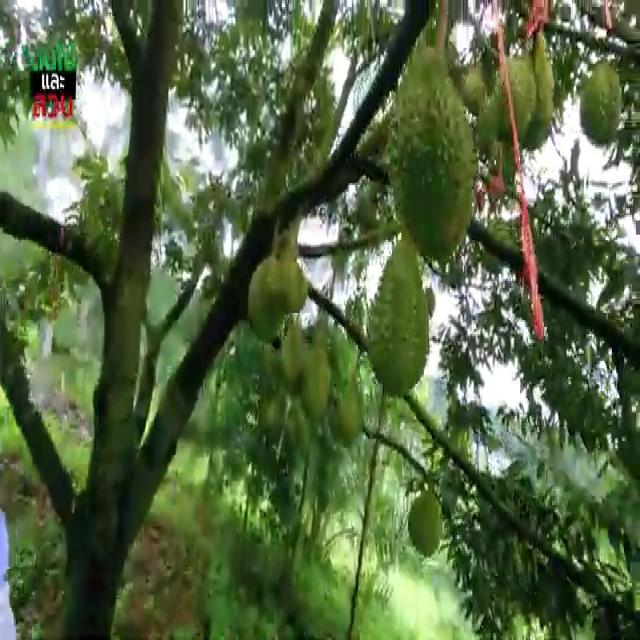durian: (383, 40, 482, 266), (364, 238, 432, 402), (487, 49, 538, 155), (513, 38, 557, 156), (577, 59, 626, 154), (244, 254, 287, 350), (328, 350, 366, 453), (299, 332, 332, 432), (407, 485, 445, 560), (280, 319, 307, 397)
